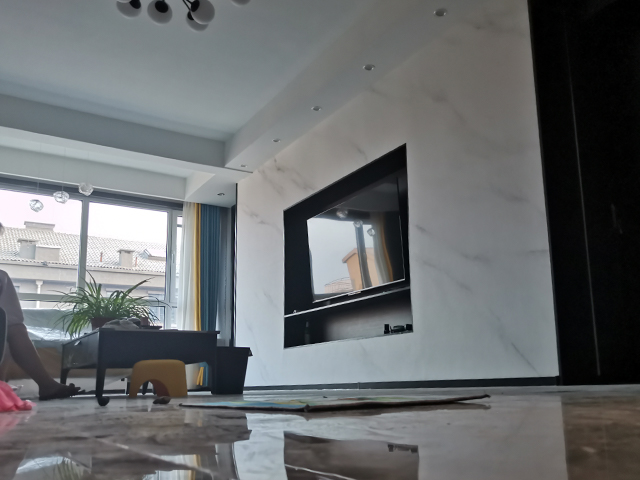carpet: (175, 391, 491, 413)
curtain: (178, 202, 226, 330)
feces: (95, 396, 112, 408), (150, 396, 172, 405)
stool: (126, 358, 190, 399)
table: (57, 328, 223, 397)
trashcan: (208, 345, 254, 395)
